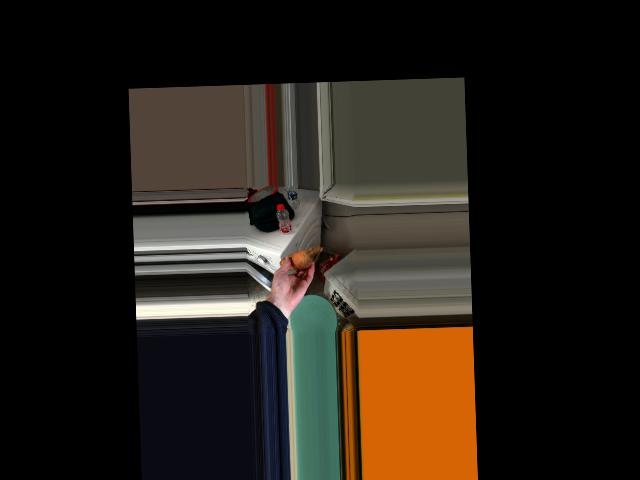sweet_potato: (284, 249, 311, 269)
